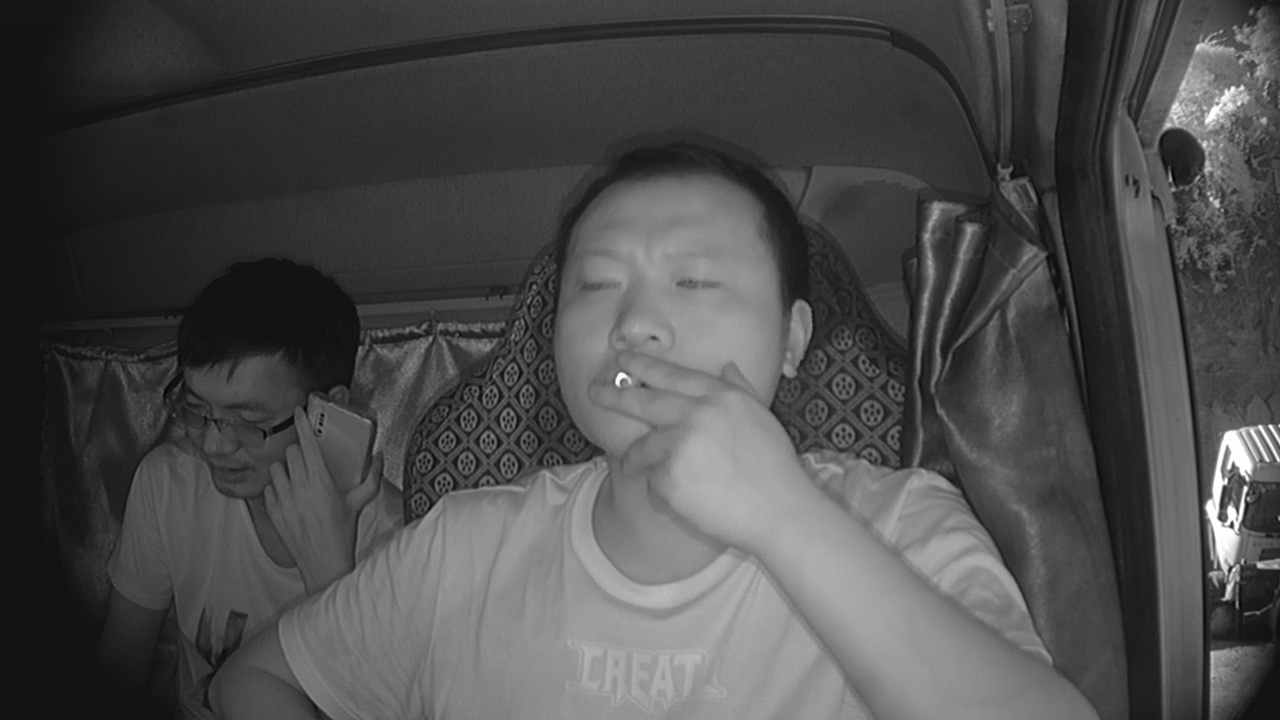hand: (586, 351, 767, 528)
